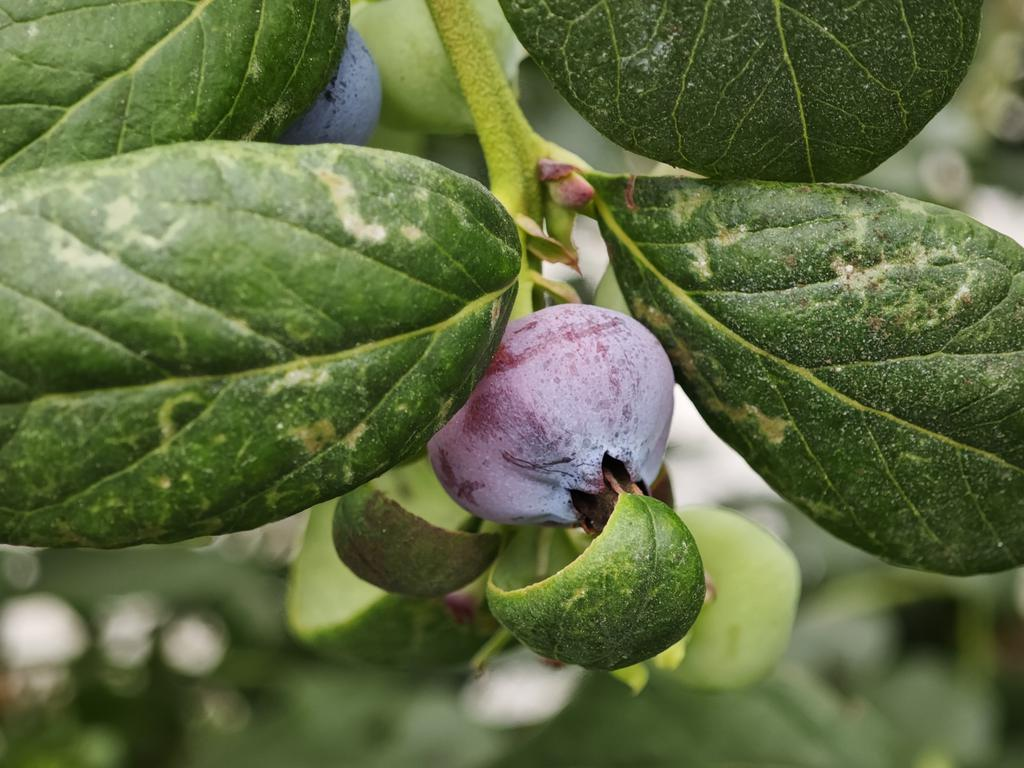Semi-RipeBlueBerry: (433, 308, 673, 520)
